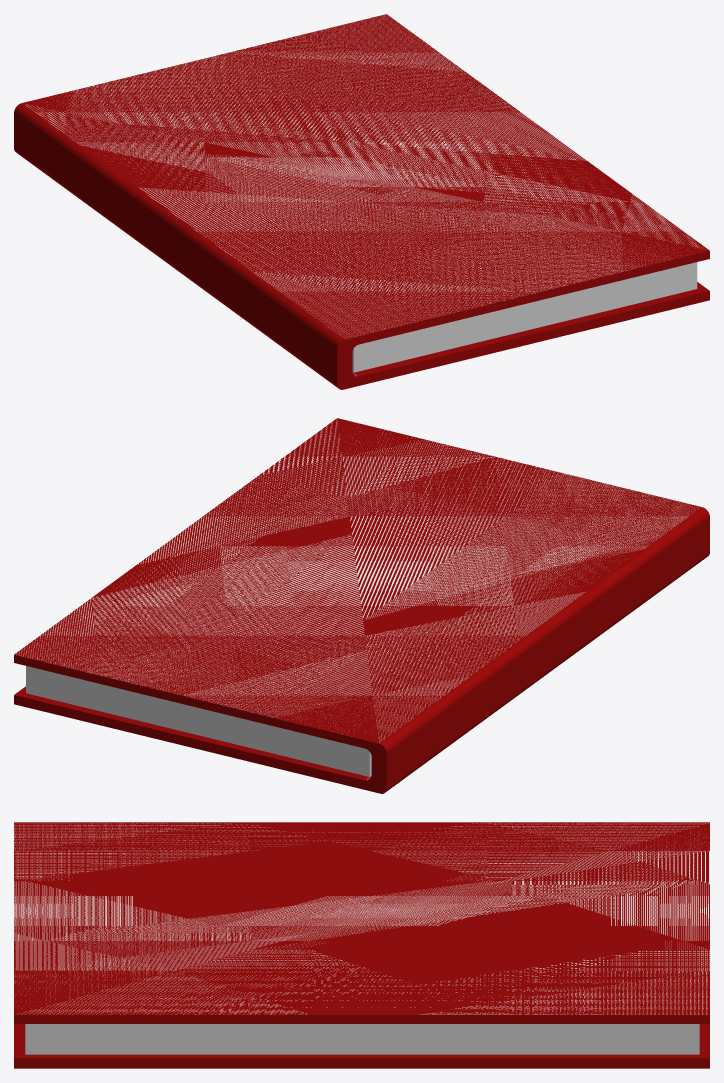
The picture shows the model from 3 angles, top to bottom: view 1: azimuth 30°, elevation 25°; view 2: azimuth 150°, elevation 25°; view 3: azimuth 270°, elevation 25°; orthographic projection. The views are drawn at different scales.
Visible parts, largest first — view 1: holy bible; view 2: holy bible; view 3: holy bible.
Boxes of the visible parts, x1=… form: holy bible: x1=14, y1=14, x2=709, y2=389; holy bible: x1=14, y1=418, x2=709, y2=793; holy bible: x1=14, y1=822, x2=709, y2=1068.
Size of the model in its own units: 133 by 17.94 by 200.
